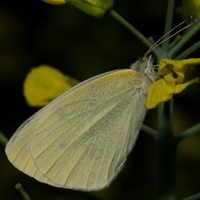insect: (5, 55, 199, 190)
